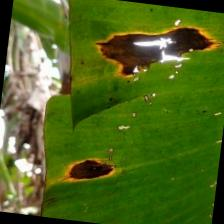cordana: (32, 0, 224, 224)
